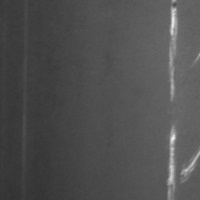scratches: (166, 2, 181, 100), (165, 123, 179, 199), (176, 148, 199, 186)
